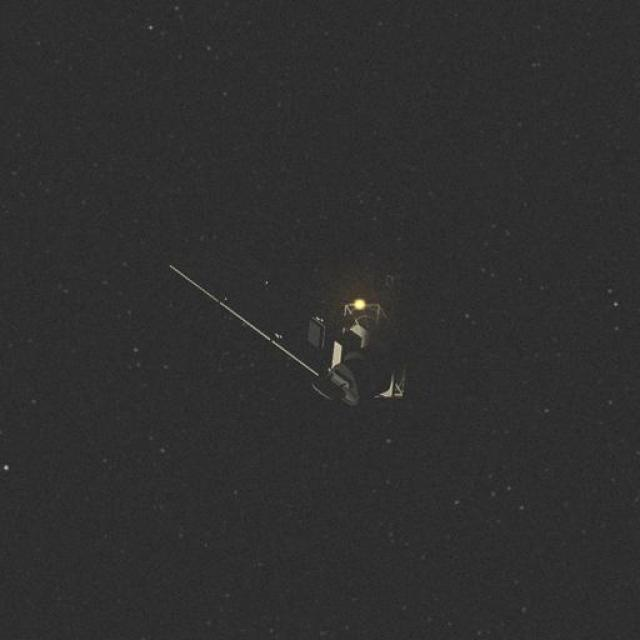earth_observation_sat_1: (161, 256, 418, 423)
